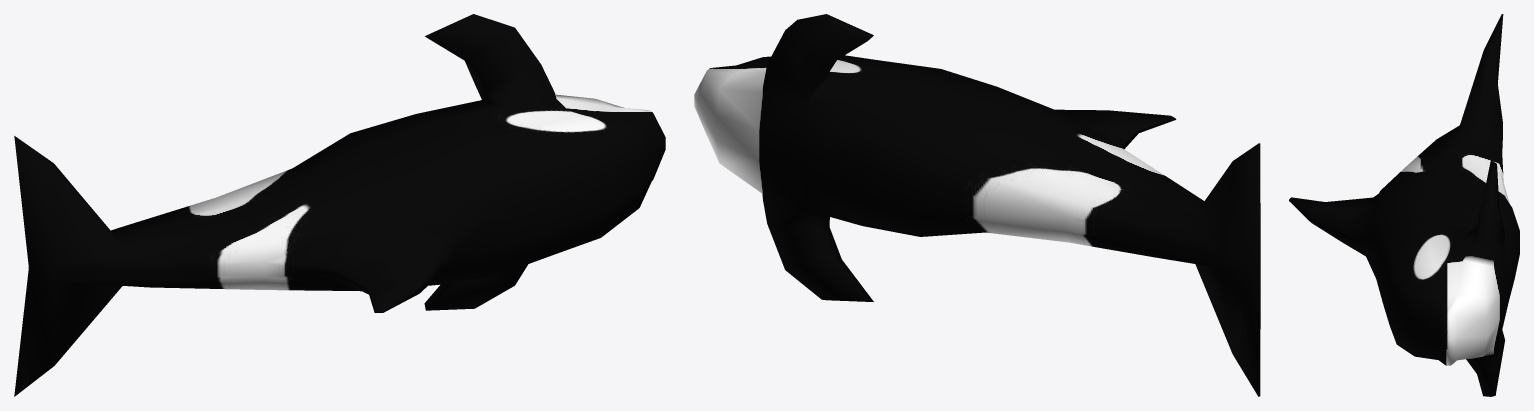
Rendered from killer-whale-low-tex3.obj.
3 views of the same model, side by side, from view 1: azimuth 30°, elevation 25°; view 2: azimuth 150°, elevation 25°; view 3: azimuth 270°, elevation 25° (orthographic). The views are drawn at different scales.
Visible parts, largest first — view 1: Vertex_Object; view 2: Vertex_Object; view 3: Vertex_Object.
Boxes of the visible parts, bbox=[...] form: Vertex_Object: bbox=[14, 14, 665, 396]; Vertex_Object: bbox=[694, 14, 1260, 396]; Vertex_Object: bbox=[1289, 14, 1519, 396].
Bounding box in the file's own units: 227 × 104 × 96.
1 material, 1 textured.
